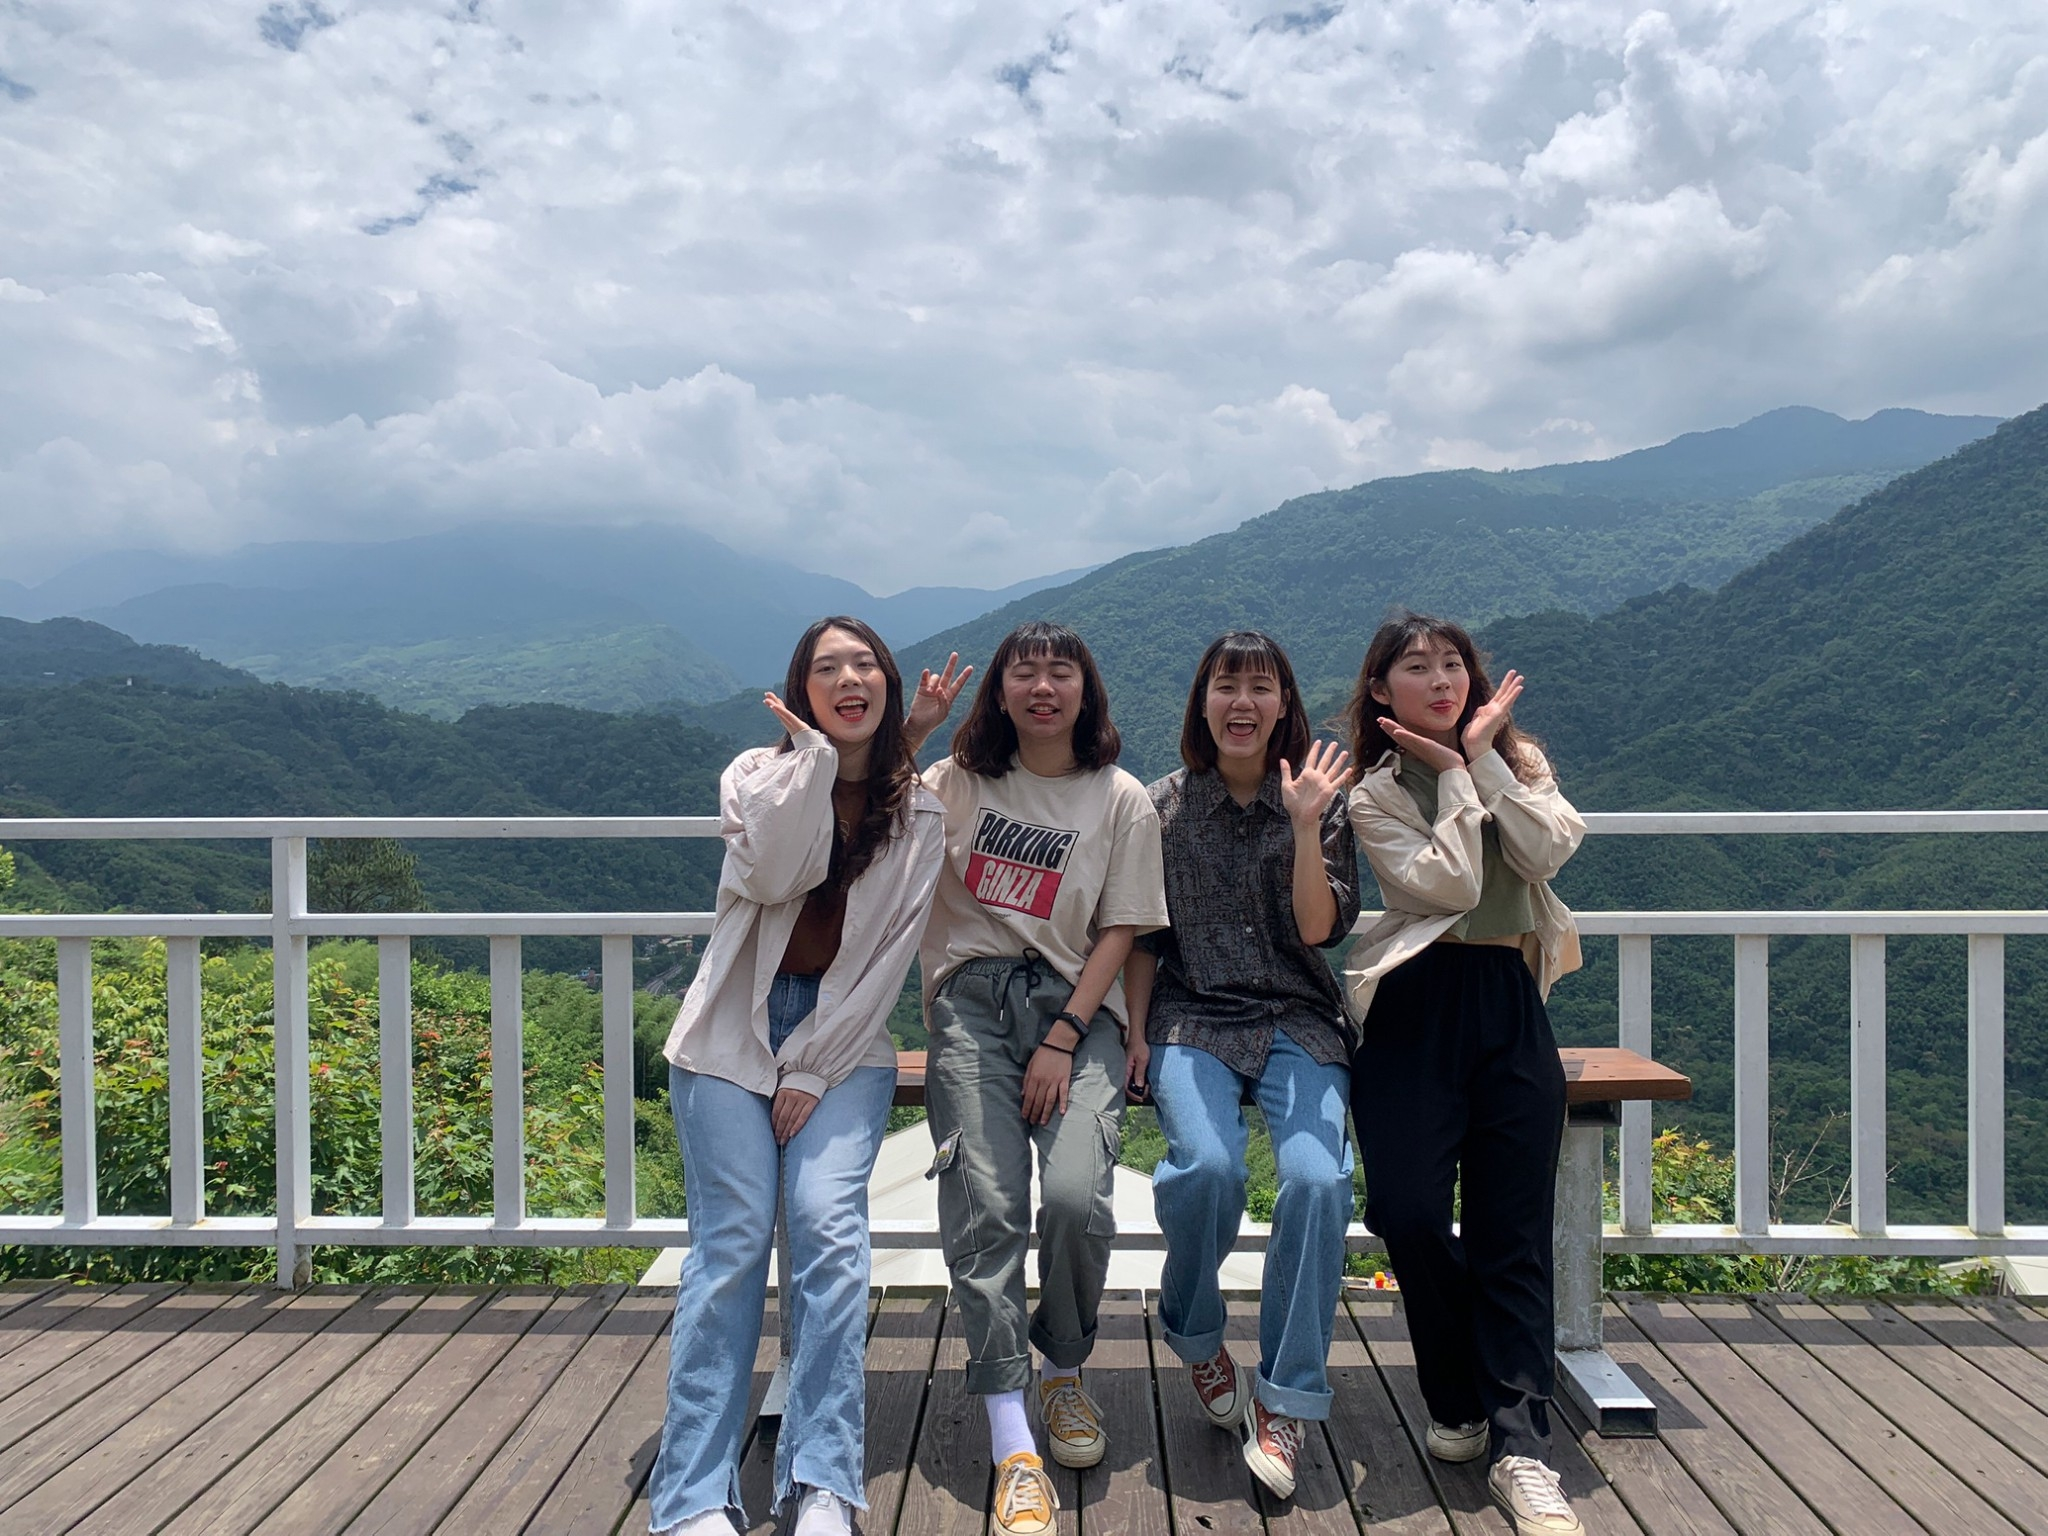people: (678, 622, 902, 1534), (1360, 622, 1581, 1536), (1137, 637, 1352, 1496), (922, 608, 1113, 1536)
